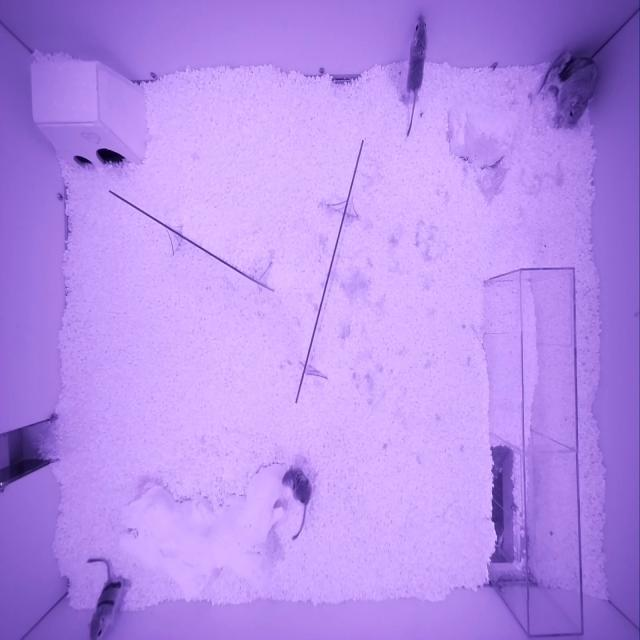adult_back: (556, 56, 599, 127)
pup_fluffy: (406, 15, 428, 93)
pup_h_stripe: (87, 577, 128, 640)
pup_spotted: (281, 464, 311, 506)
